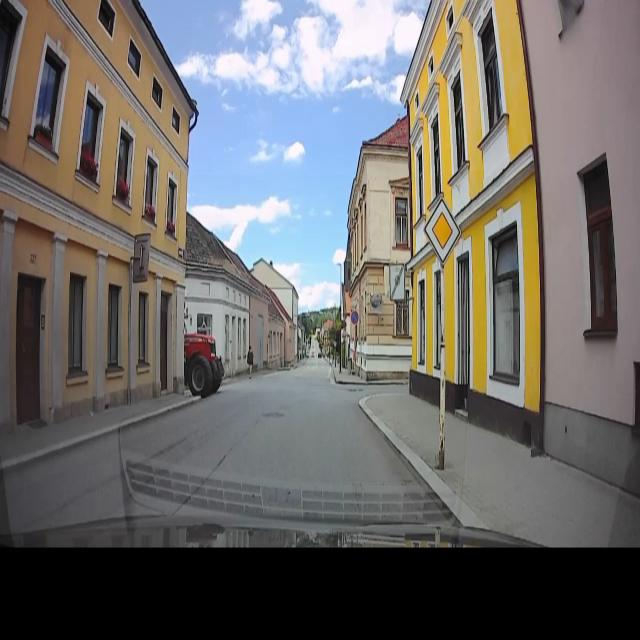forb_stopping: (351, 308, 361, 326)
